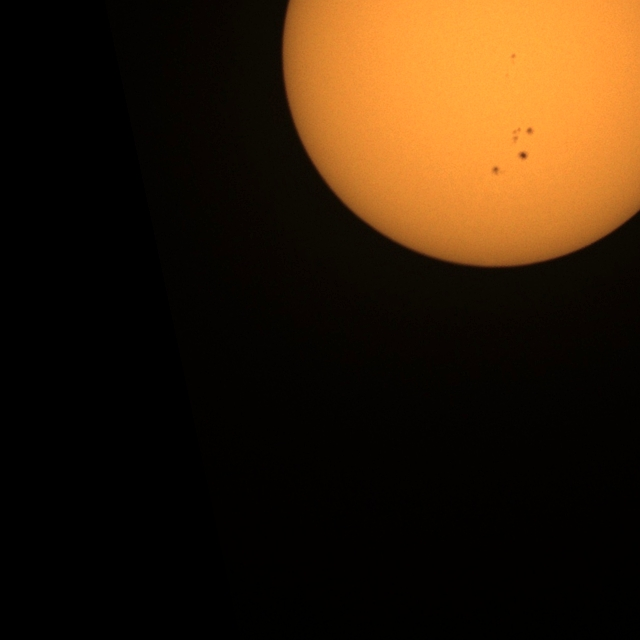sunspot: (511, 126, 534, 144), (517, 149, 529, 161), (491, 165, 504, 176), (524, 126, 534, 136), (510, 52, 517, 62)
